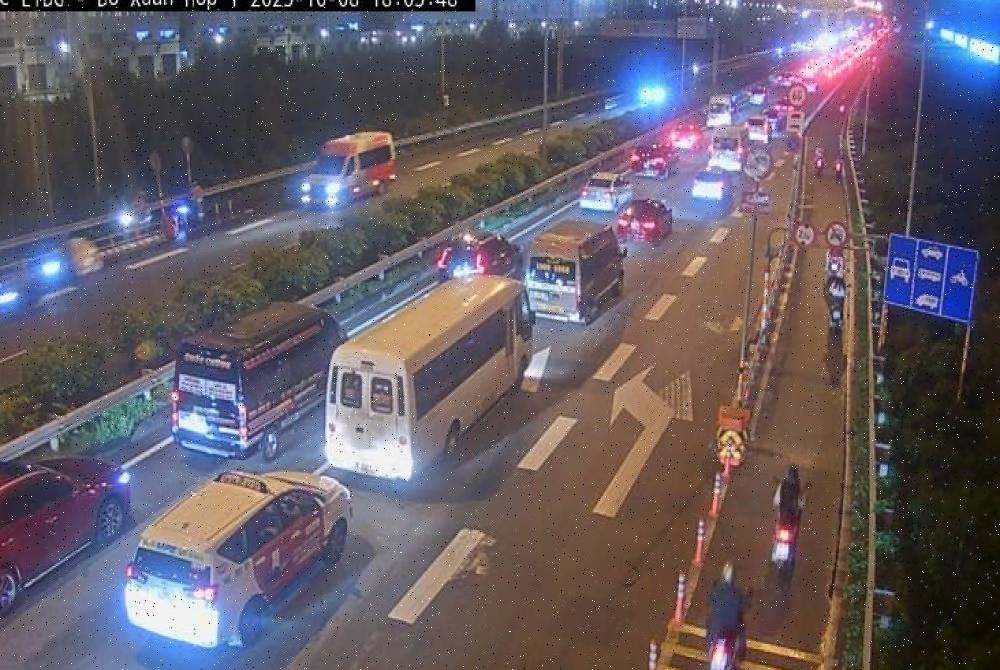bus: (318, 256, 550, 482)
car: (105, 449, 351, 658), (169, 291, 348, 463), (0, 418, 133, 644), (506, 214, 642, 326), (301, 112, 403, 216), (434, 220, 531, 292), (566, 163, 639, 226), (617, 192, 677, 243)
